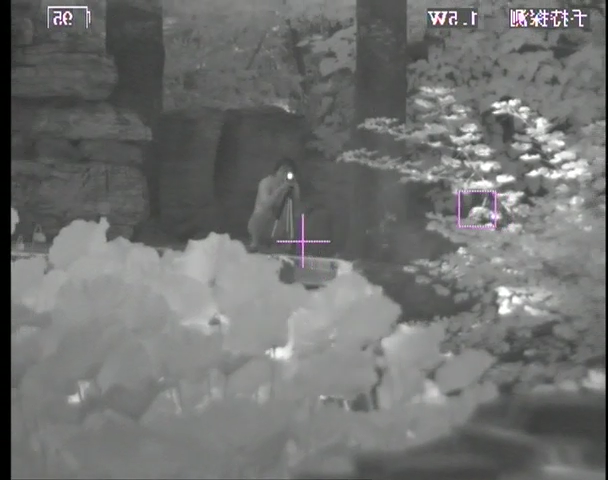my: (286, 171, 296, 182)
